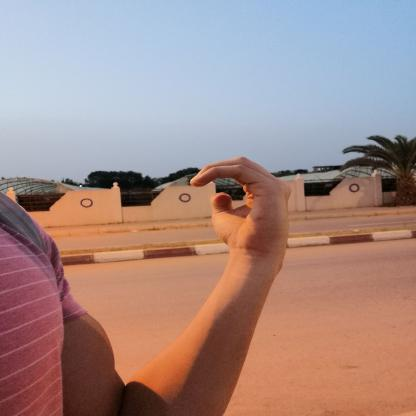JEEM: (176, 150, 306, 264)
